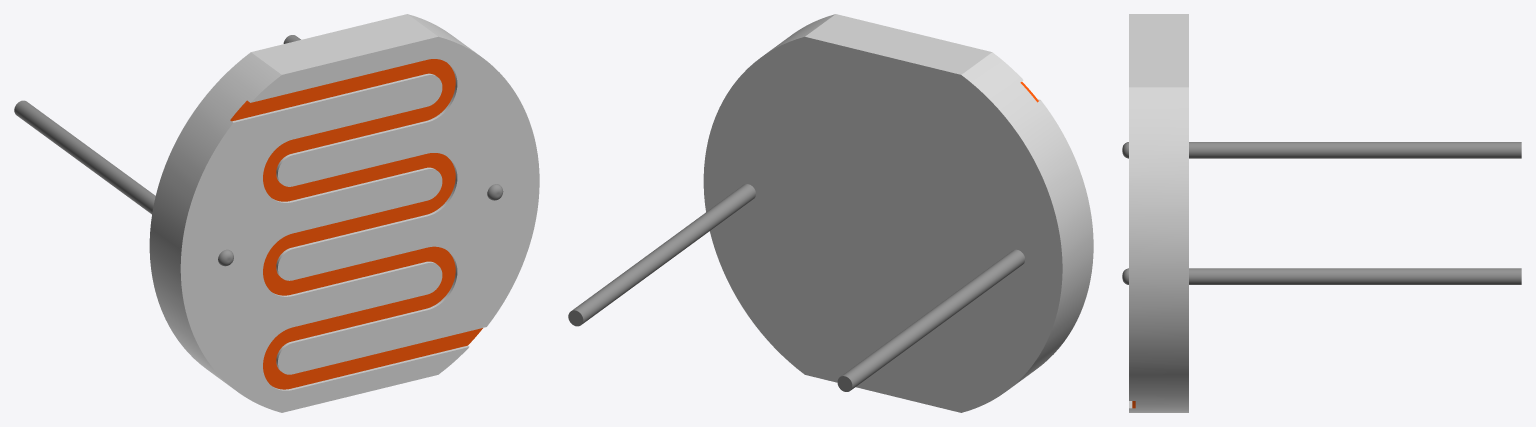
The model's file is ldr.glb.
The picture shows the model from 3 angles, left to right: view 1: azimuth 30°, elevation 25°; view 2: azimuth 150°, elevation 25°; view 3: azimuth 270°, elevation 25°; orthographic projection. The views are drawn at different scales.
Parts seen in each view (by area): view 1: CutBody (Solid), Common (Solid), Pin001 (Solid); view 2: CutBody (Solid), Pin001 (Solid); view 3: CutBody (Solid), Pin001 (Solid).
Part boxes in pixels (box(x1,y1,x2,y2)): CutBody (Solid): box(149, 14, 539, 412); Common (Solid): box(230, 59, 482, 389); Pin001 (Solid): box(14, 35, 503, 266); CutBody (Solid): box(703, 14, 1093, 412); Pin001 (Solid): box(568, 184, 1025, 391); CutBody (Solid): box(1129, 14, 1188, 412); Pin001 (Solid): box(1122, 142, 1521, 284).
Bounding box in the file's own units: 12 × 10.8 × 12.
